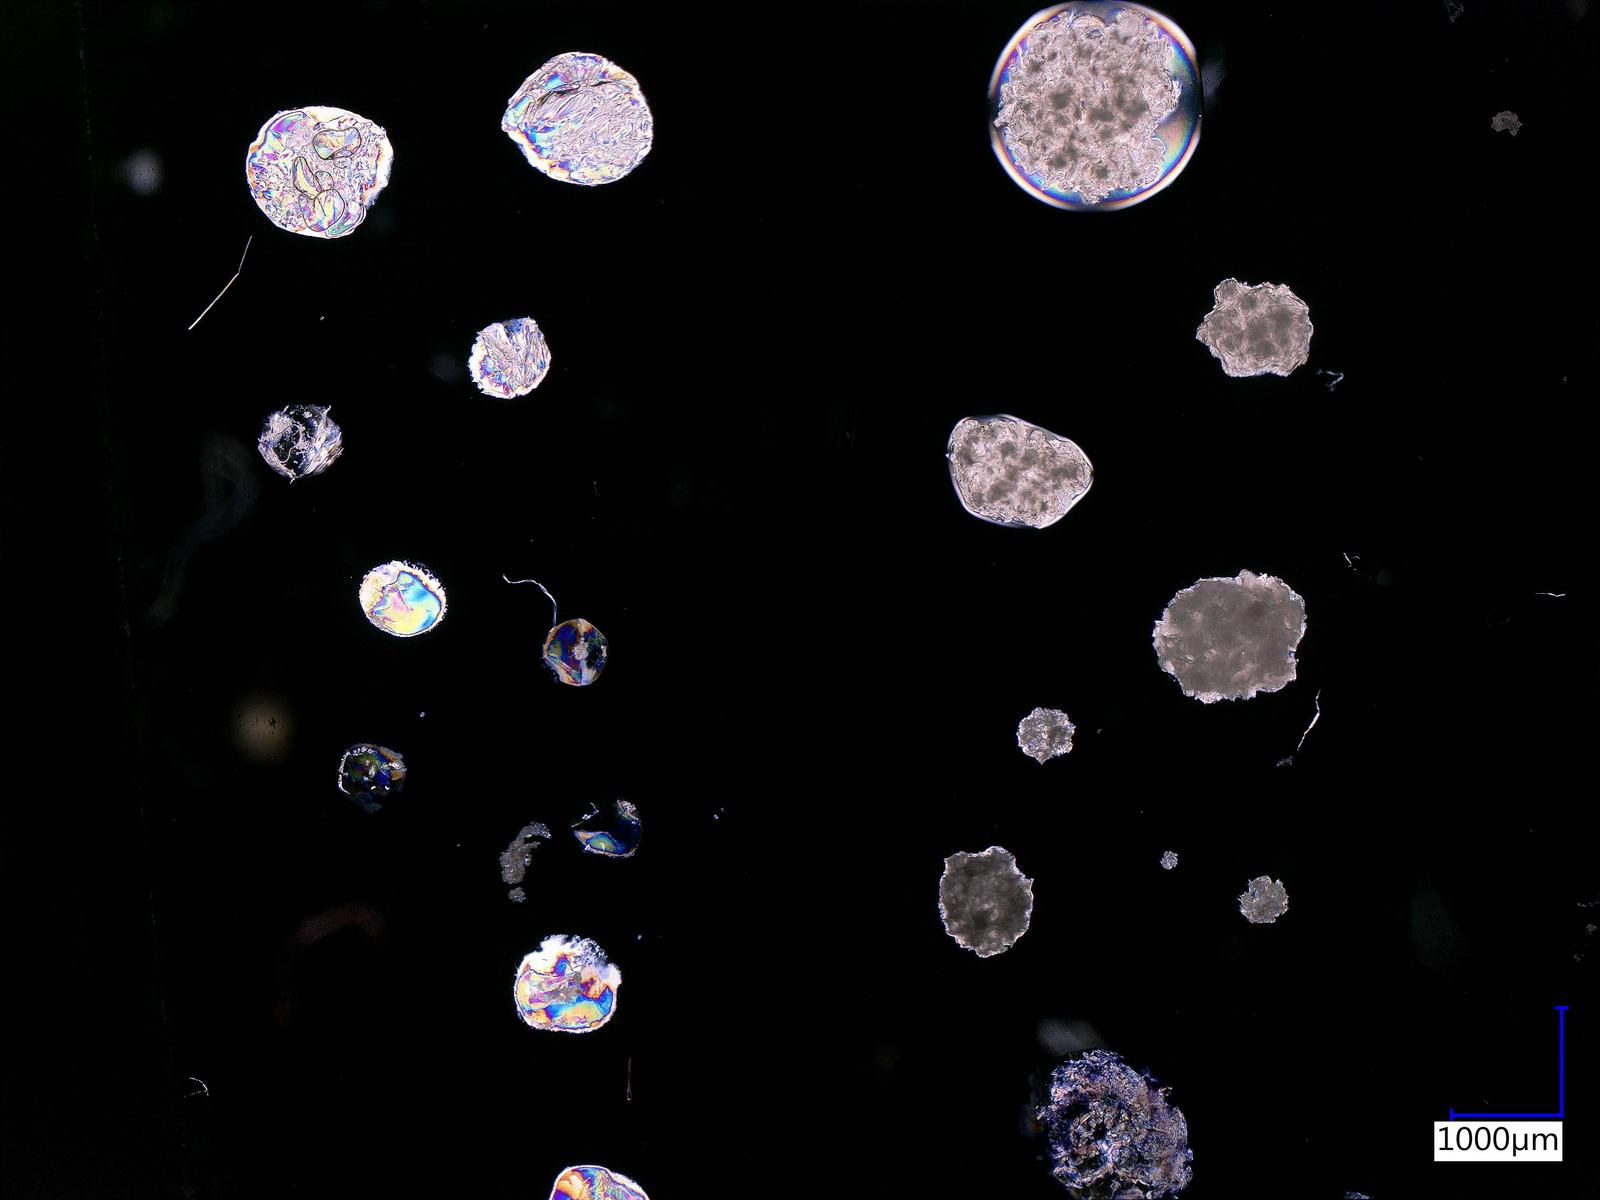sediment: (1013, 16, 1175, 187), (1151, 571, 1305, 705), (954, 418, 1090, 522), (936, 845, 1036, 958), (1198, 279, 1313, 376), (1015, 707, 1075, 763), (1236, 874, 1288, 924), (1159, 850, 1177, 871)
